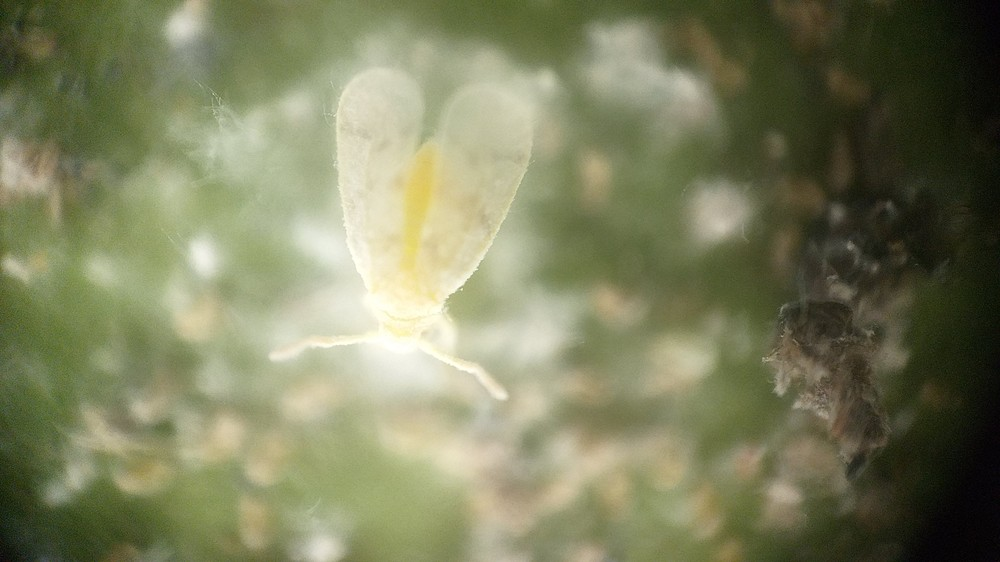Mosca Blanca: (263, 72, 562, 423)
